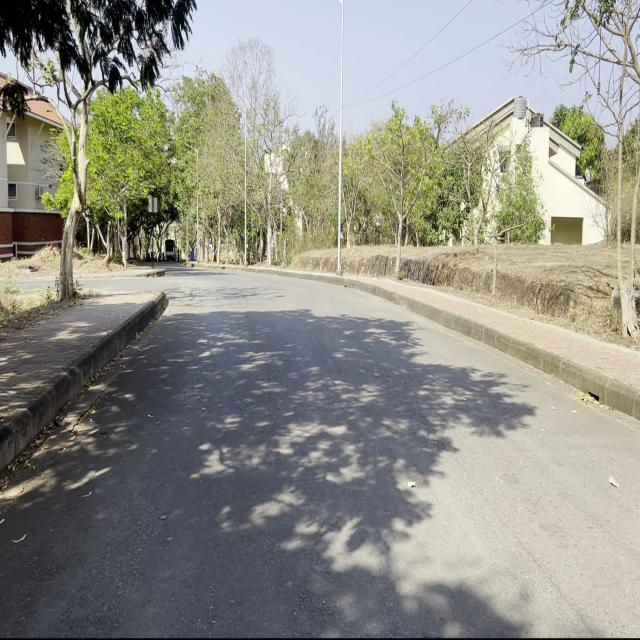Road: (4, 270, 635, 633)
